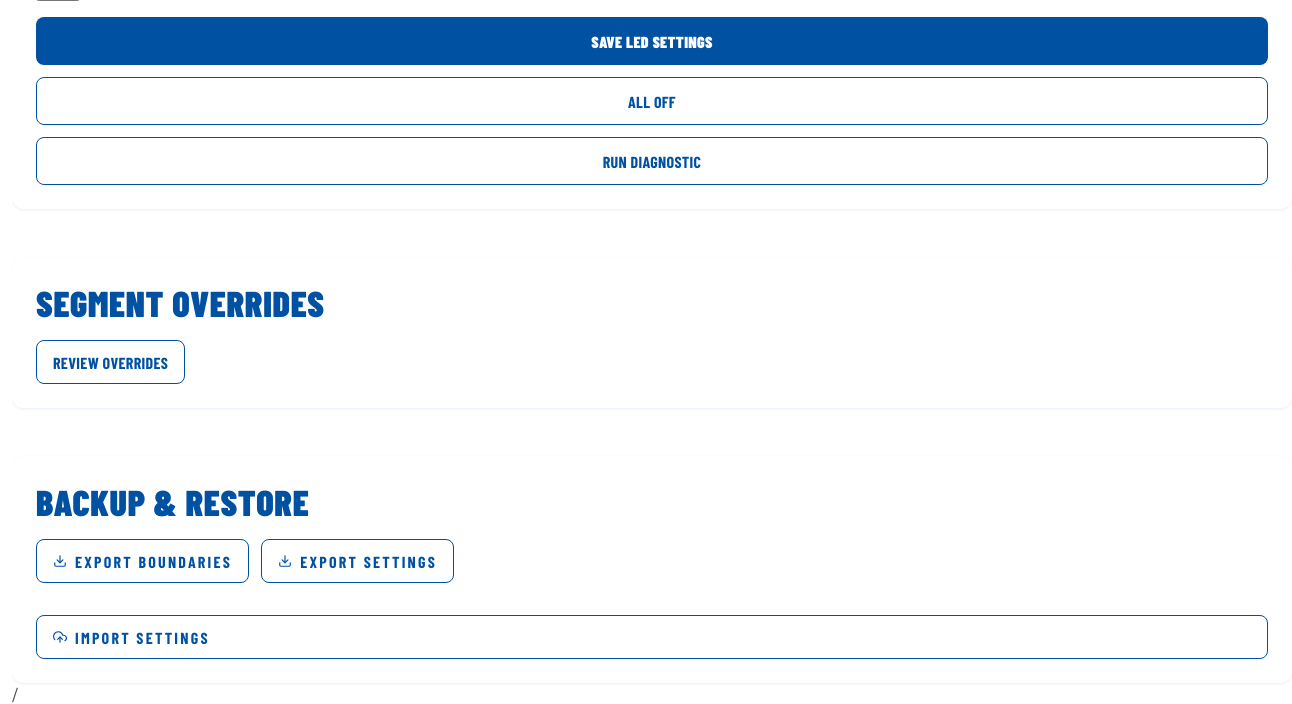
Test: does not advertise an unsupported drift alert and keeps override review
The width and height of the screenshot is (1292, 704).
(page scrolled)
Click the button "REVIEW OVERRIDES". click: {"x": 111, "y": 362}
box: 36,340 -> 185,384
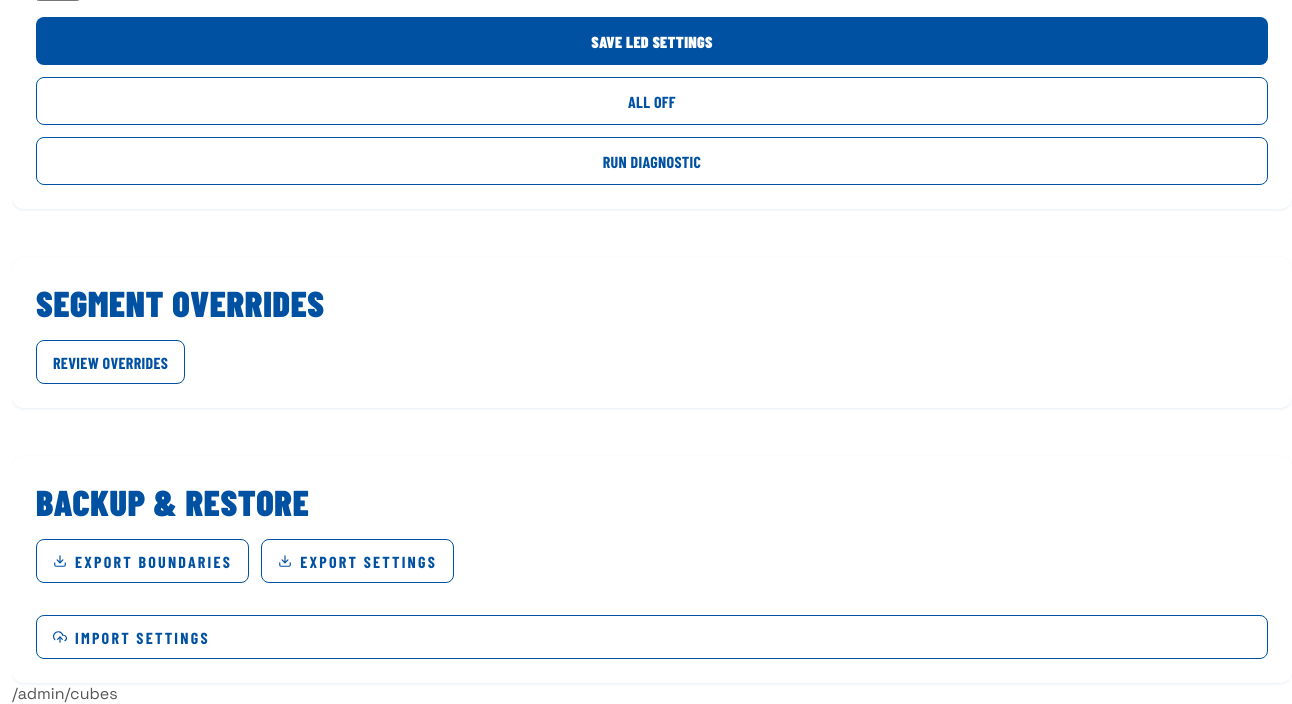
Result: the text with test id "path" reads "/admin/cubes" at 12,683 -> 118,703
